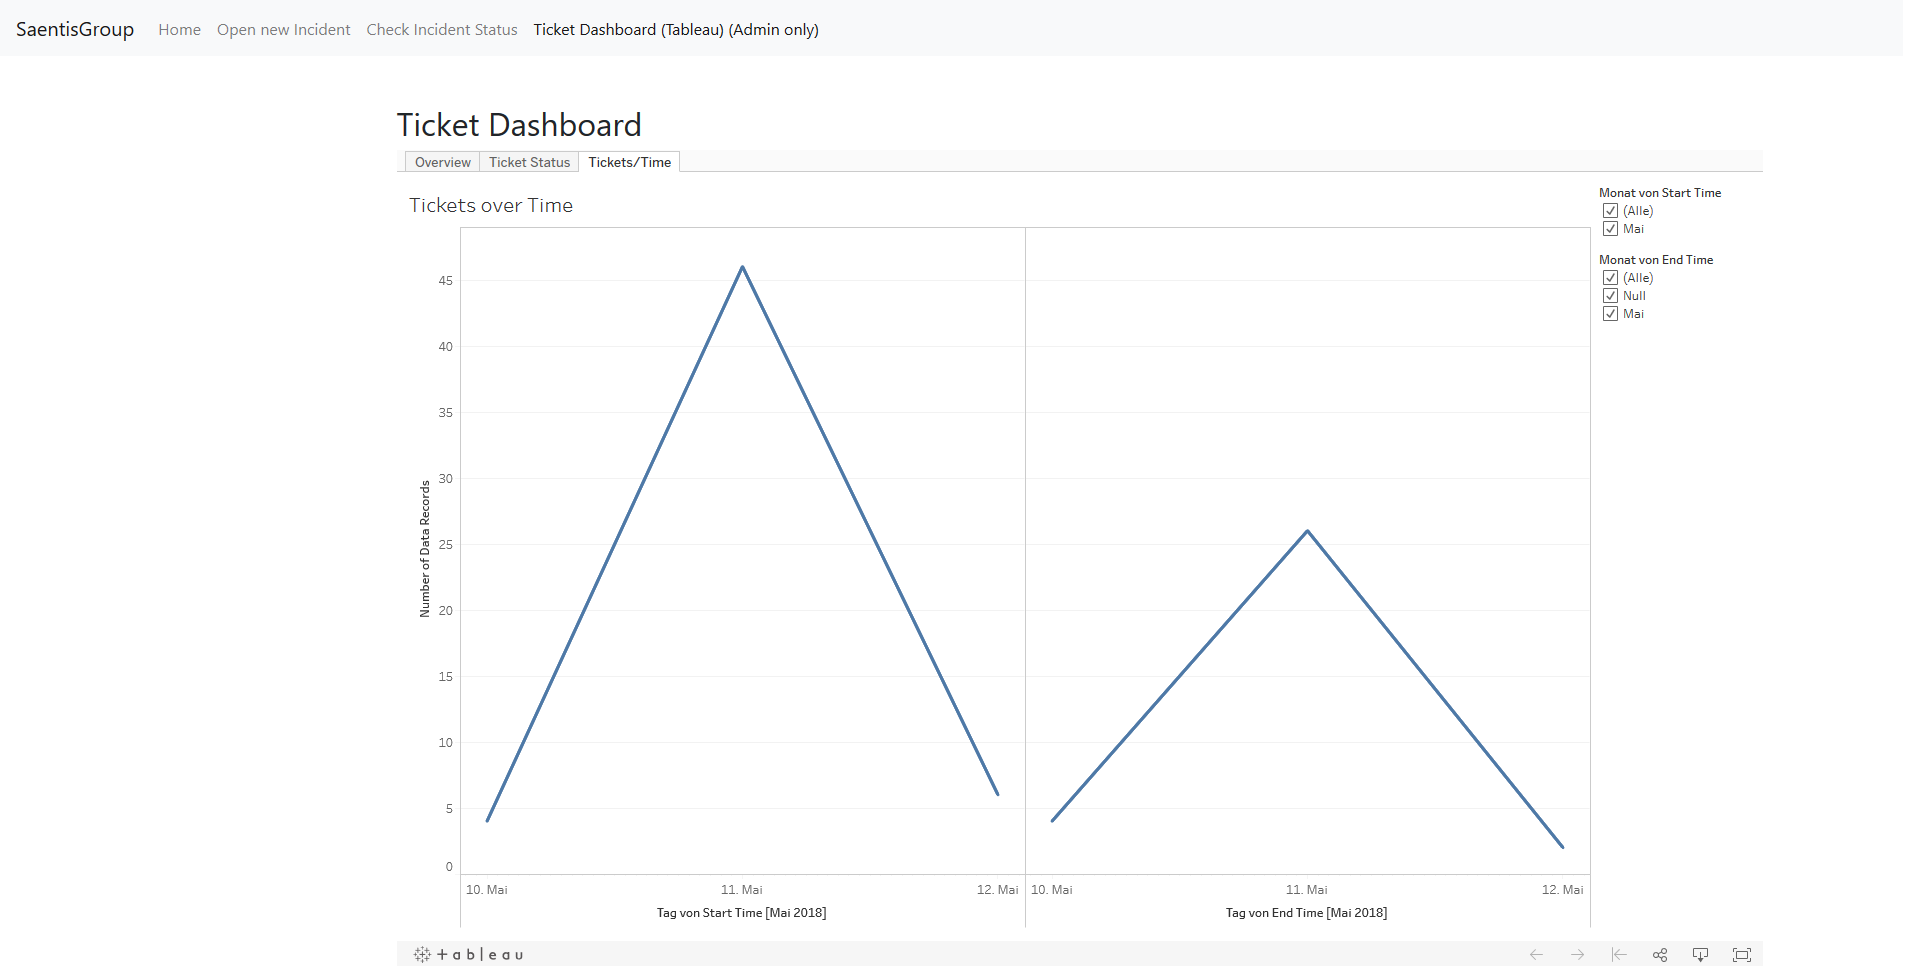

The dashboard page shown, as its layout file describes it:
{"tool":"tableau","page":{"name":"Tickets/Time","canvas":[1366,768],"ordinal":2},"visuals":[{"type":"worksheet","title":"Tickets over Time","mark":"Automatic","rows":["Number of Records"],"cols":["start_time_","end_time_"],"box":[8,8,1190,752]},{"type":"filter","title":"Tickets over Time","param":"[federated.0r7vbwe0kou0w81d6x1o80aafghp].[mn:start_time_:ok]","box":[1198,8,160,70]},{"type":"filter","title":"Tickets over Time","param":"[federated.0r7vbwe0kou0w81d6x1o80aafghp].[mn:end_time_:ok]","box":[1198,78,160,89]}]}

Visuals, with their boxes on the page's 1366x768 design canvas (x1, y1, x2, y2). These are canvas units, not pixel positions in the 1920x966 screenshot, which may show the page scaled, cropped or inside an application window:
"Tickets over Time" worksheet: bbox(8, 8, 1198, 760)
"Tickets over Time" filter: bbox(1198, 8, 1358, 78)
"Tickets over Time" filter: bbox(1198, 78, 1358, 167)
